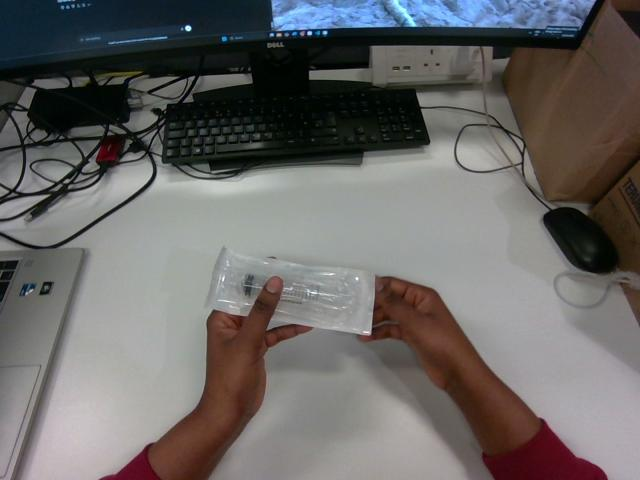syringe: (207, 247, 374, 334)
